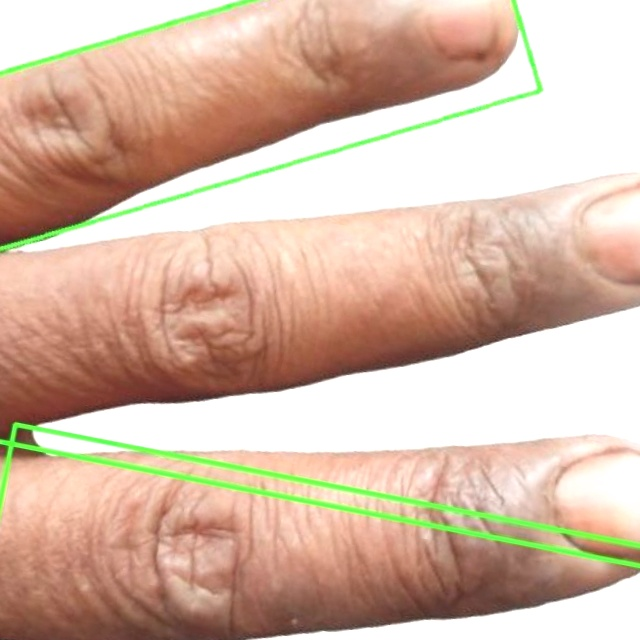Eczema: (0, 0, 639, 565), (0, 424, 639, 639), (0, 0, 540, 249)
